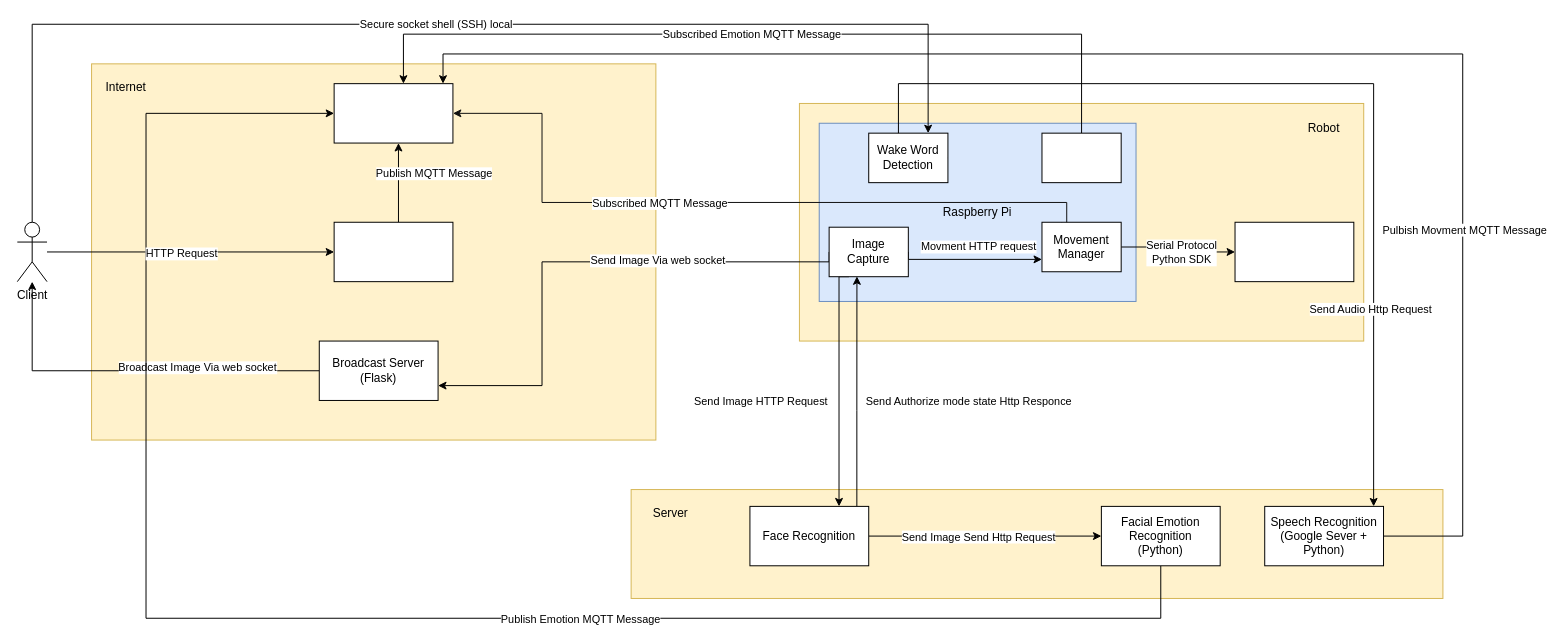
Some shapes in this 1563 by 644 pixel diagram are drawn without their labels. Each missing label, with the centre of its shape:
"Broker Server (Mosquito)" goes at point 393,113.
"Central Board" goes at point 1294,251.
"Emotion Manger" goes at point 1081,157.
"Web Server (Django)" goes at point 393,251.
